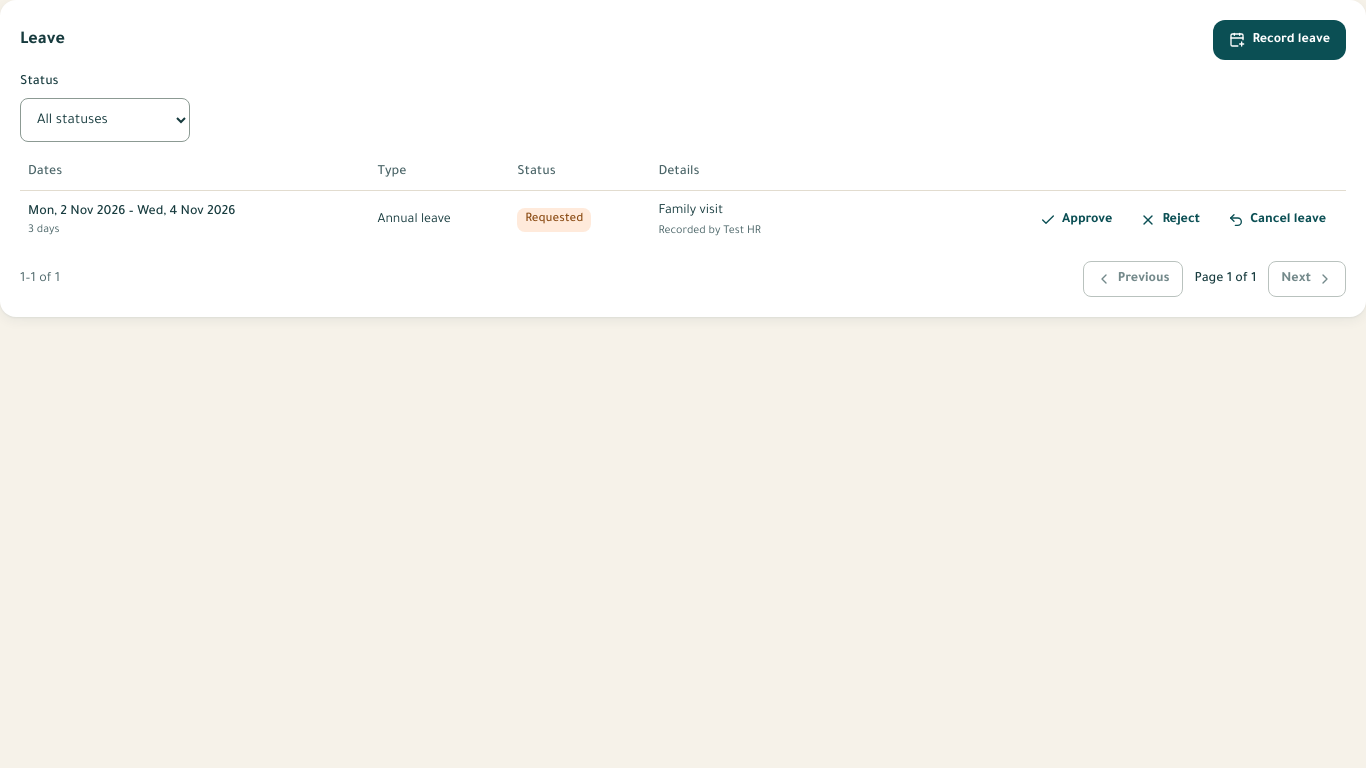
it: A05 worker tabs › returns focus to the row's Approve button when the shortfall dialog that replaced the confirmation closes
Click the button with aria-label "Approve the leave from Mon, 2 Nov 2026".
click(1076, 220)  # box [1028,202,1124,238]
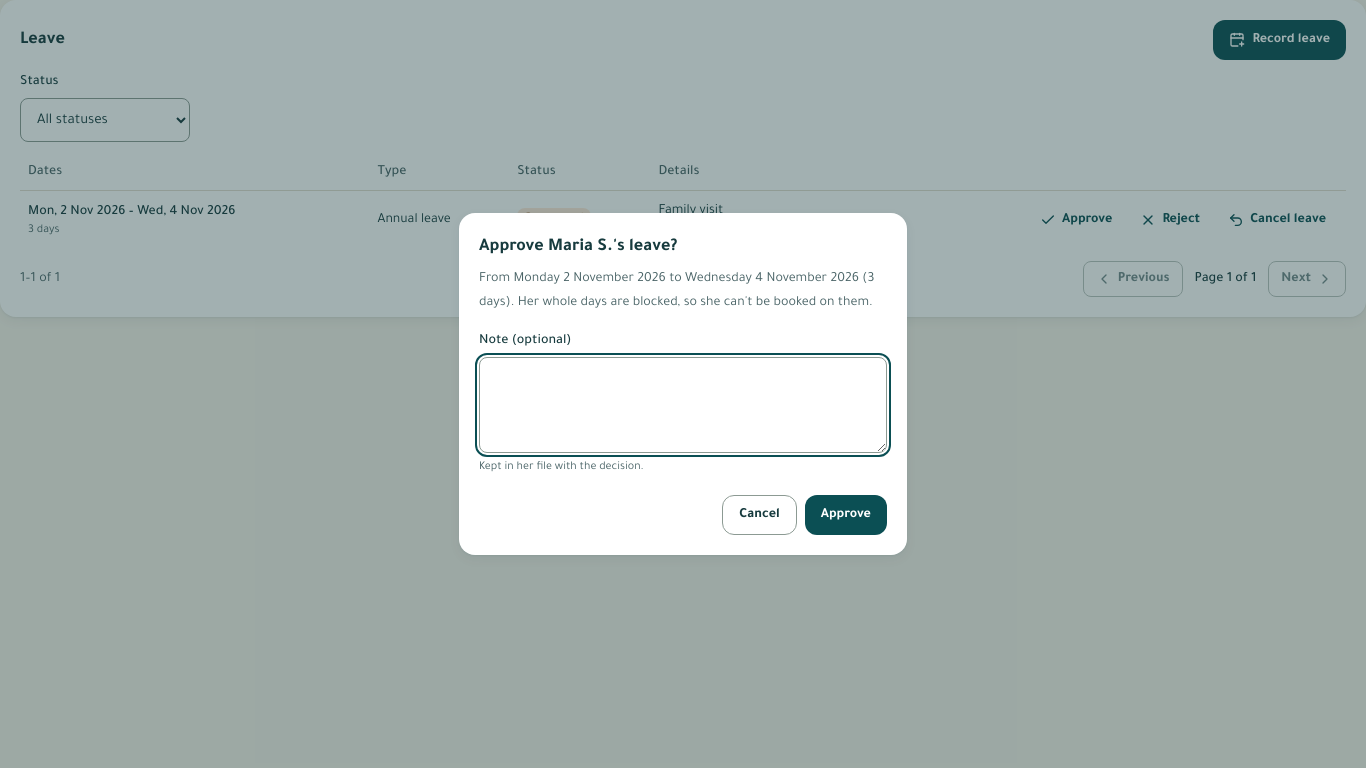
Click the button "Approve".
click(846, 515)  # box [805,495,887,535]
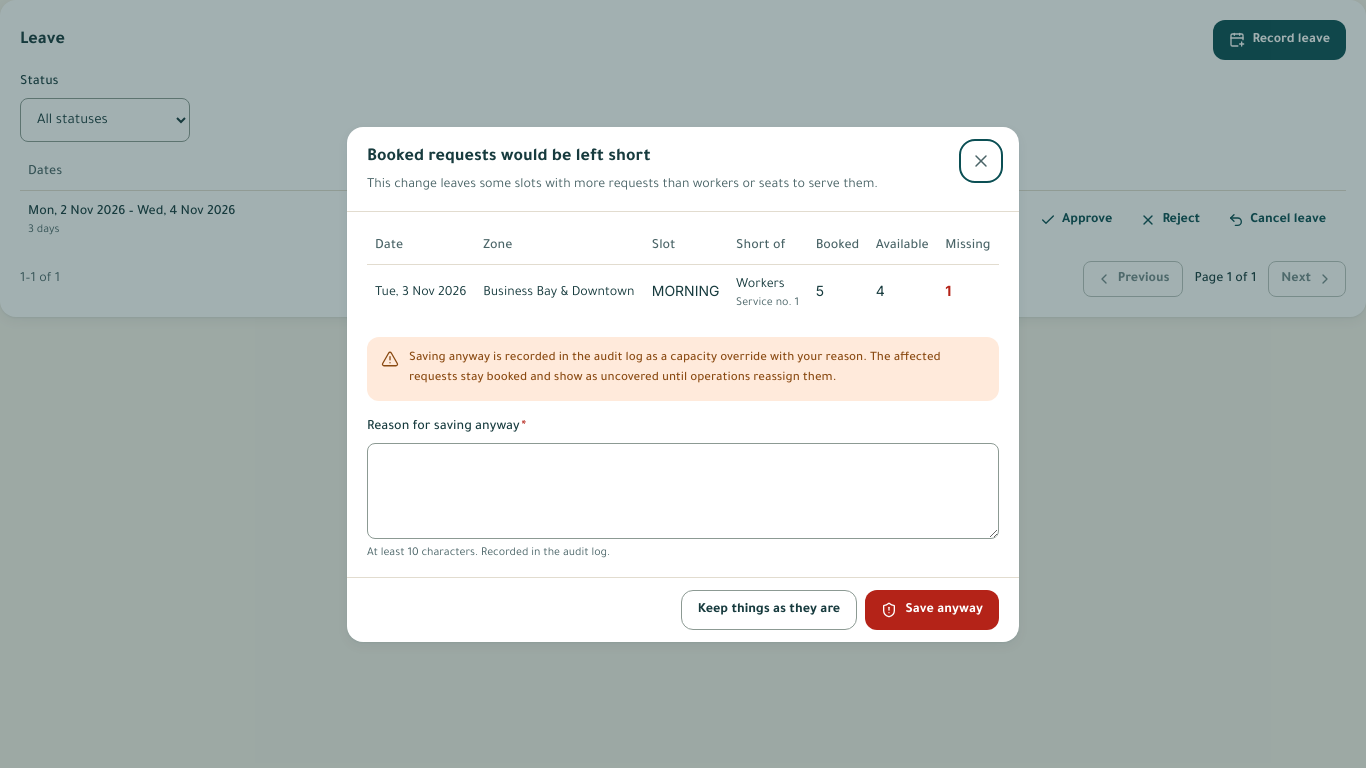
Click the button "Keep things as they are".
click(769, 610)  # box [681,590,857,630]
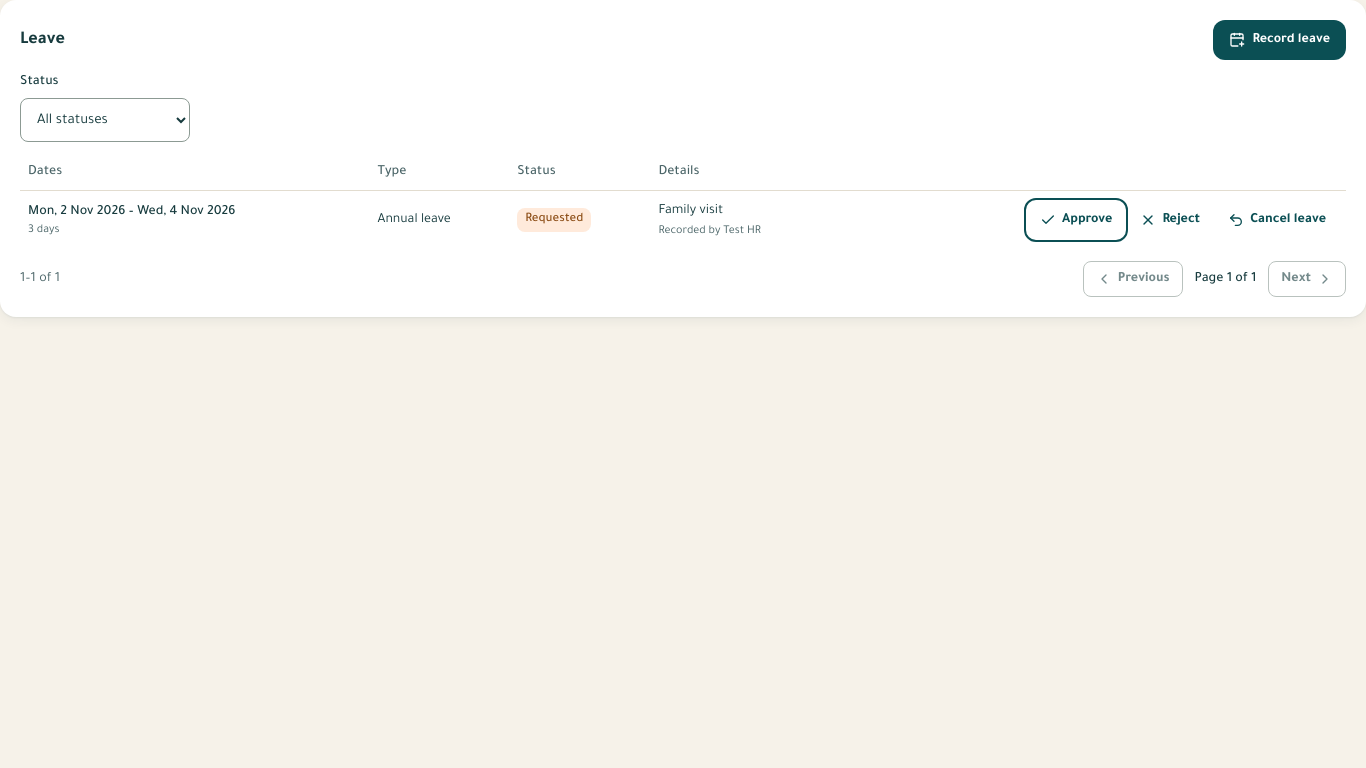
Check: the dialog is gone
